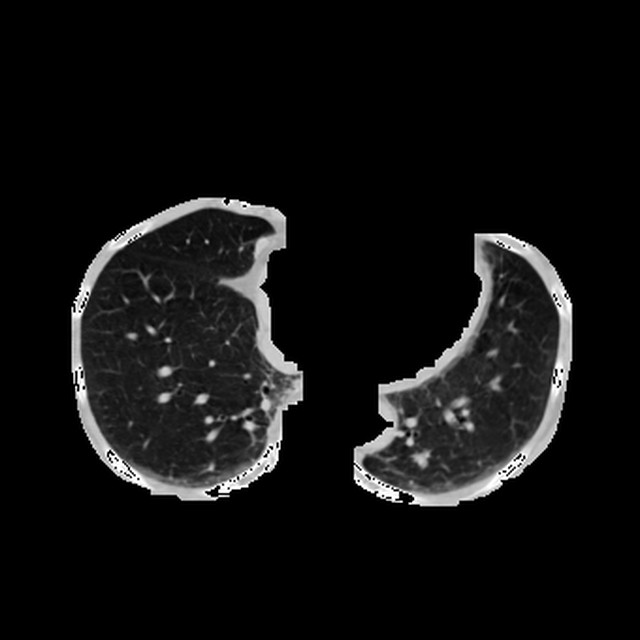PN: (412, 450, 427, 465)
